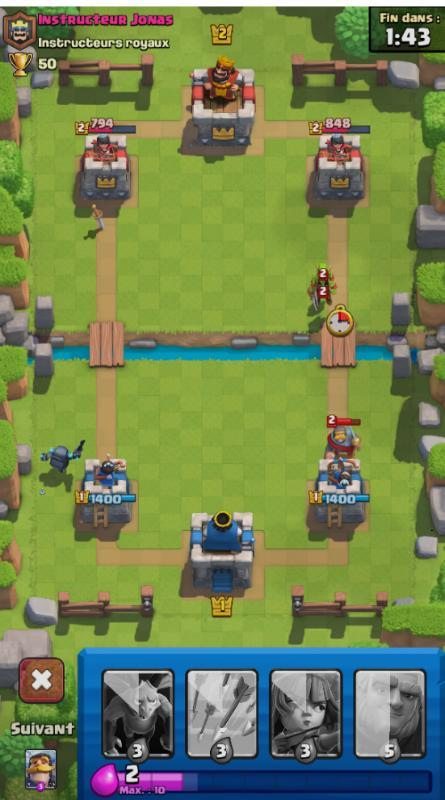enemy_knight: (320, 410, 366, 455)
player_mini_pekka: (37, 429, 88, 482)
